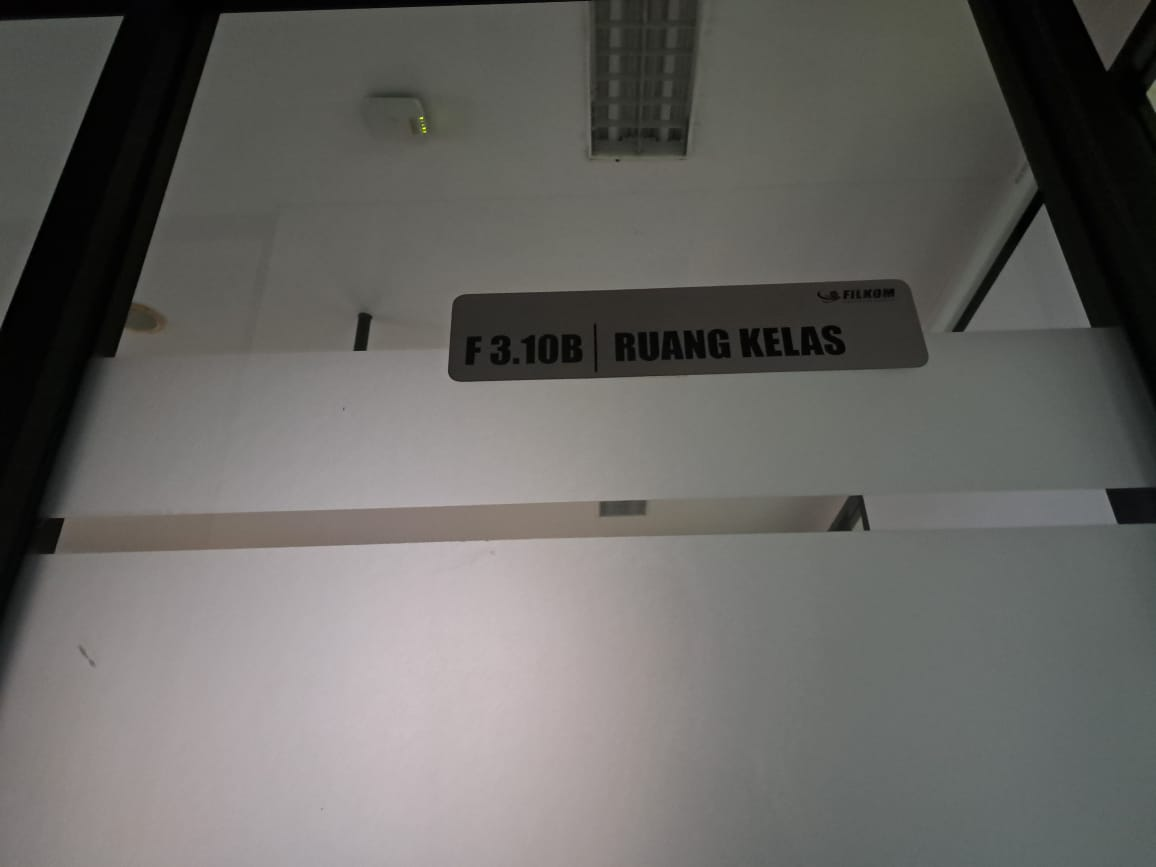ruangan: (435, 271, 936, 390)
